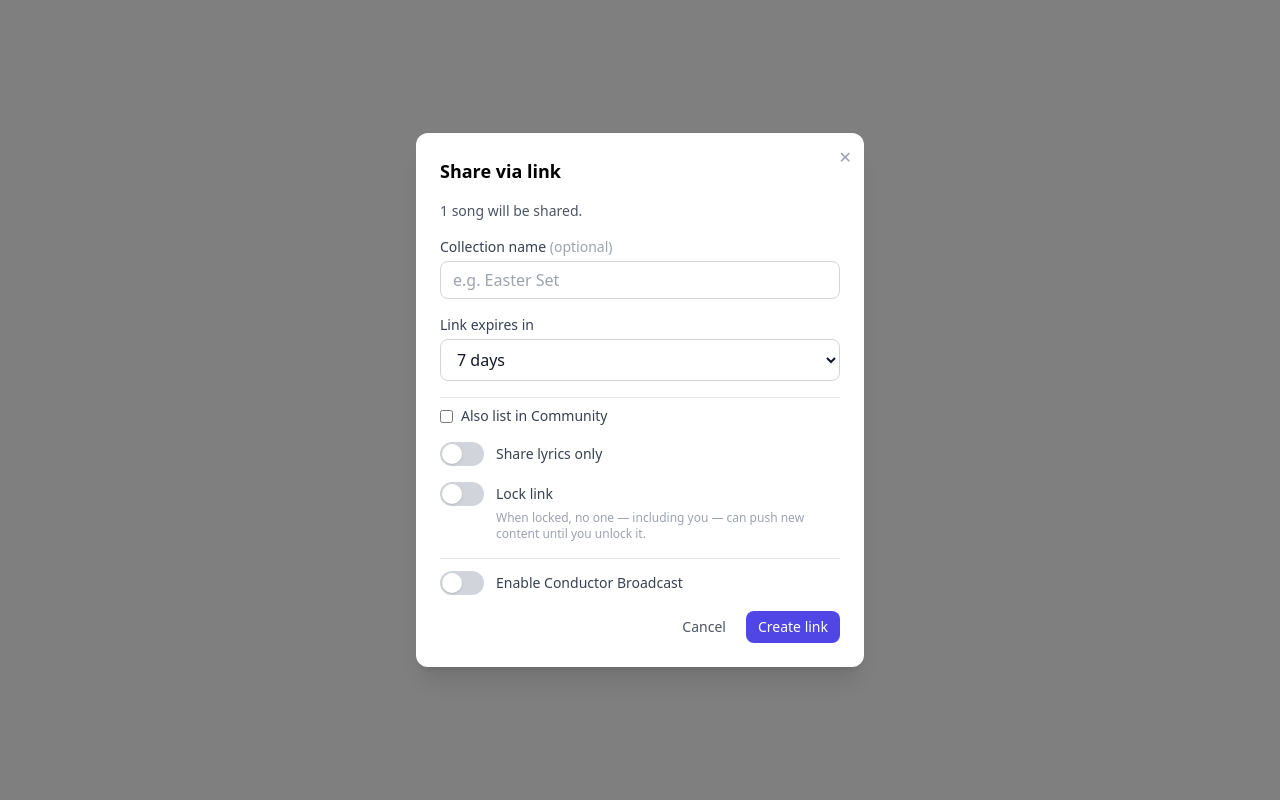
Test: ShareModal › shows uploading spinner after clicking Create link
Click the button "Create link" at x=793, y=627, box [746,611,840,643]
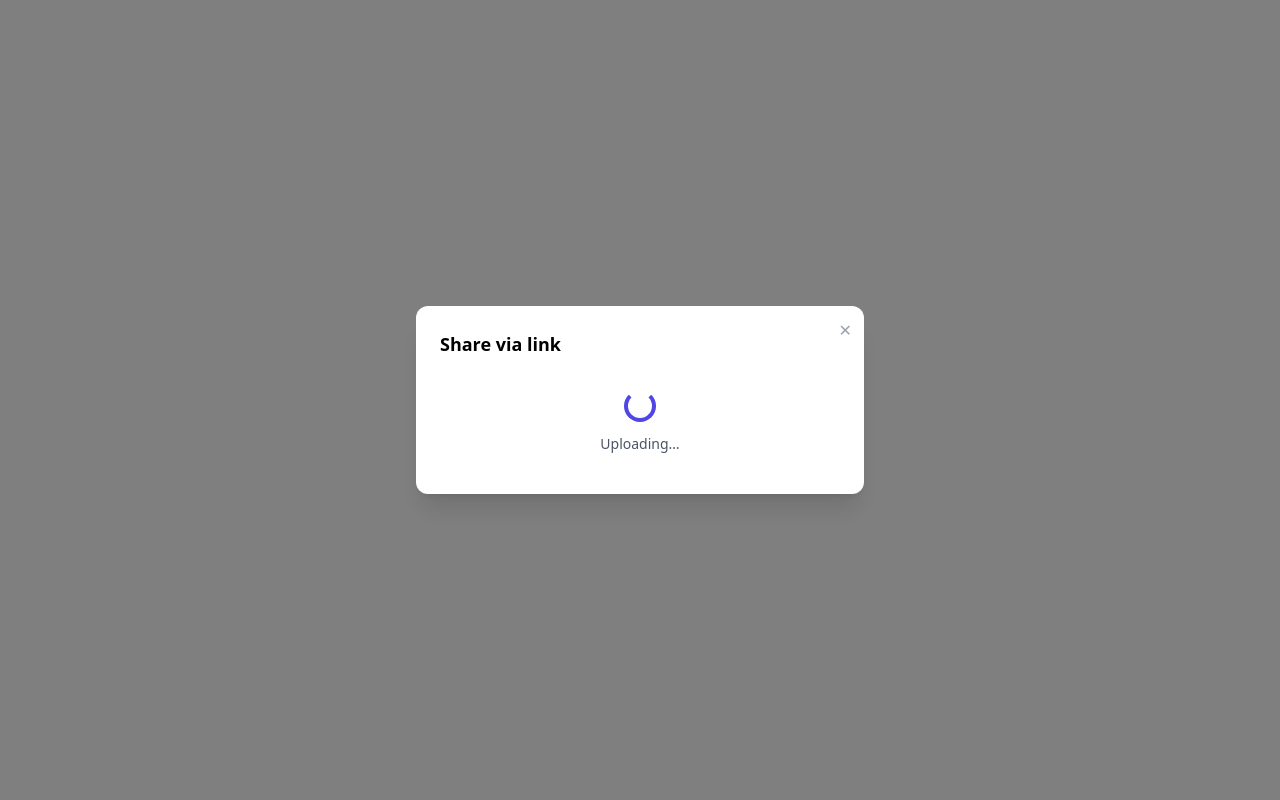
Expected: the text "Uploading…" is shown, [600,434,680,454]
